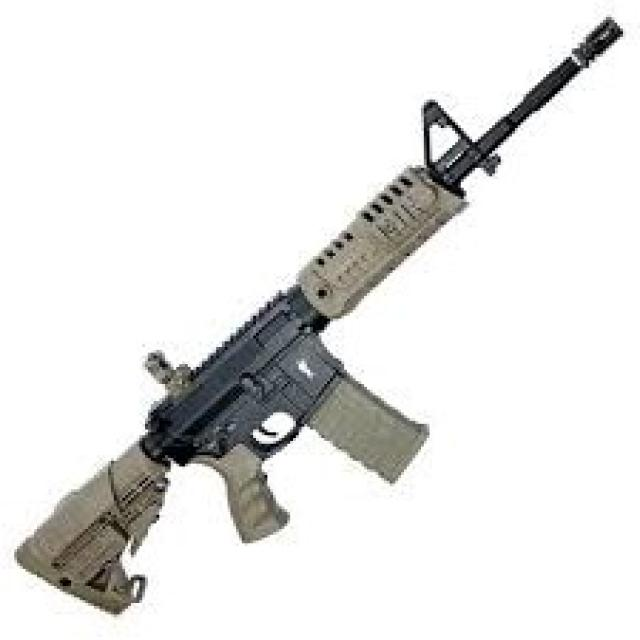rifle: (15, 5, 633, 632)
